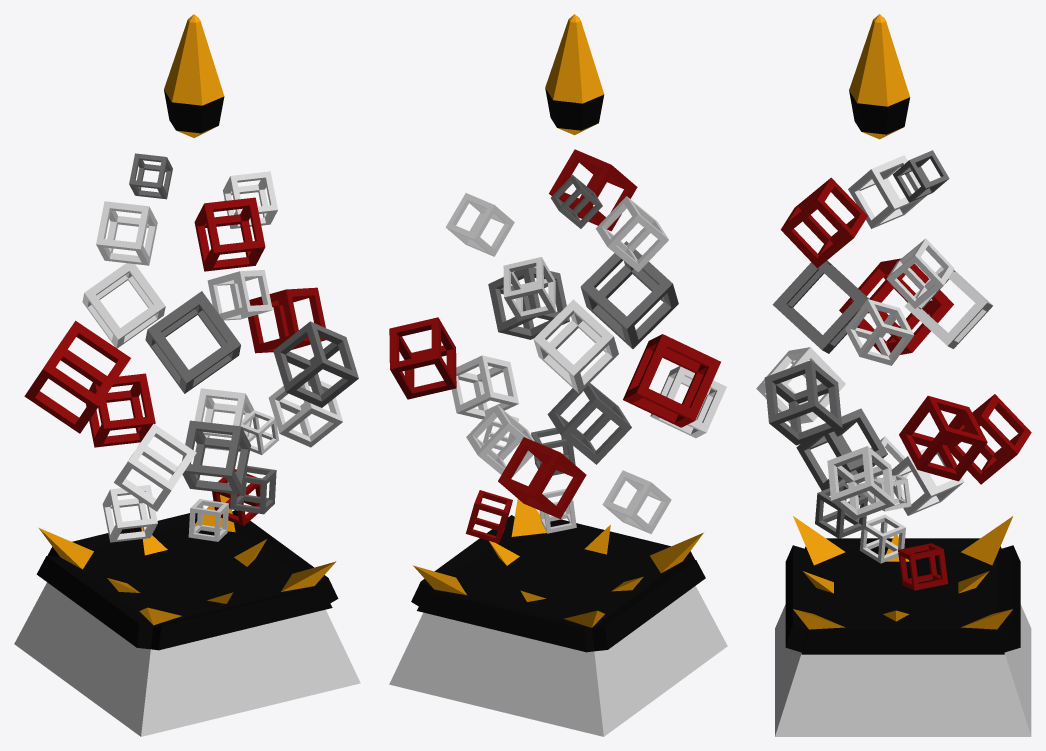
3 views of the same model, side by side, from view 1: azimuth 30°, elevation 25°; view 2: azimuth 150°, elevation 25°; view 3: azimuth 270°, elevation 25° (orthographic). The views are drawn at different scales.
Parts seen in each view (by area): view 1: Group1, Group2, Group24, Group6, Group26, Group14, Group31, Group25, Group29, Group27, Group15, Group4 (+12 smaller); view 2: Group1, Group2, Group24, Group26, Group25, Group4, Group29, Group31, Group5, Group15, Group6, Group14 (+12 smaller); view 3: Group1, Group2, Group4, Group6, Group14, Group5, Group26, Group24, Group29, Group7, Group31, Group15 (+13 smaller).
Part boxes in pixels (bbox=[...]): Group1: bbox=[14, 510, 360, 736]; Group2: bbox=[164, 14, 224, 137]; Group24: bbox=[24, 320, 130, 433]; Group6: bbox=[273, 321, 358, 407]; Group26: bbox=[145, 291, 240, 393]; Group14: bbox=[194, 197, 265, 271]; Group31: bbox=[182, 420, 250, 494]; Group25: bbox=[82, 263, 165, 348]; Group29: bbox=[86, 373, 155, 447]; Group27: bbox=[114, 423, 196, 511]; Group15: bbox=[96, 201, 157, 265]; Group4: bbox=[248, 287, 325, 353]; Group1: bbox=[389, 515, 727, 736]; Group2: bbox=[545, 14, 604, 135]; Group24: bbox=[623, 334, 720, 427]; Group26: bbox=[580, 241, 678, 348]; Group25: bbox=[533, 299, 618, 393]; Group4: bbox=[389, 317, 456, 399]; Group29: bbox=[498, 437, 586, 518]; Group31: bbox=[547, 383, 631, 464]; Group5: bbox=[451, 355, 518, 419]; Group15: bbox=[595, 196, 668, 272]; Group6: bbox=[488, 267, 569, 339]; Group14: bbox=[549, 149, 637, 231]; Group1: bbox=[775, 538, 1031, 736]; Group2: bbox=[849, 14, 910, 139]; Group4: bbox=[899, 395, 987, 481]; Group6: bbox=[764, 360, 842, 445]; Group14: bbox=[780, 177, 867, 268]; Group5: bbox=[827, 446, 894, 519]; Group26: bbox=[772, 260, 869, 353]; Group24: bbox=[839, 258, 953, 354]; Group29: bbox=[947, 394, 1031, 484]; Group7: bbox=[845, 299, 914, 365]; Group31: bbox=[796, 408, 887, 490]; Group15: bbox=[848, 155, 926, 228].
Bounding box in the file's own units: 2.1 × 4.3 × 1.61.
